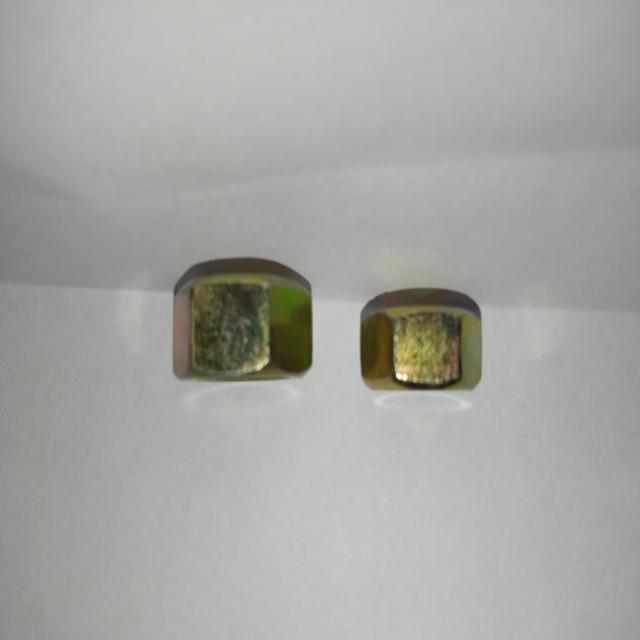m10: (169, 271, 324, 392)
m8: (355, 293, 488, 393)
